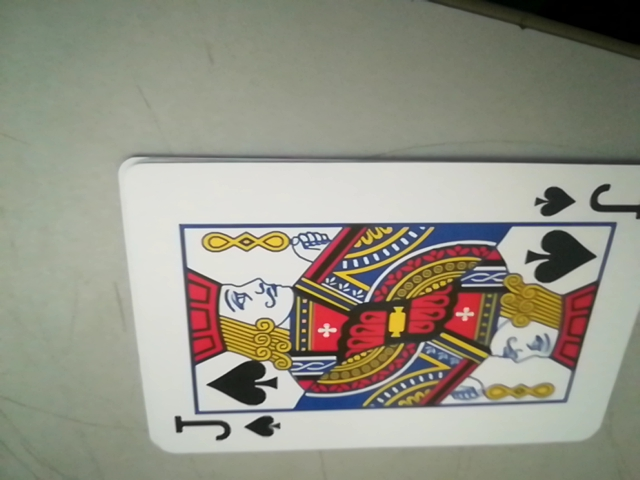ht j: (163, 406, 288, 451)
